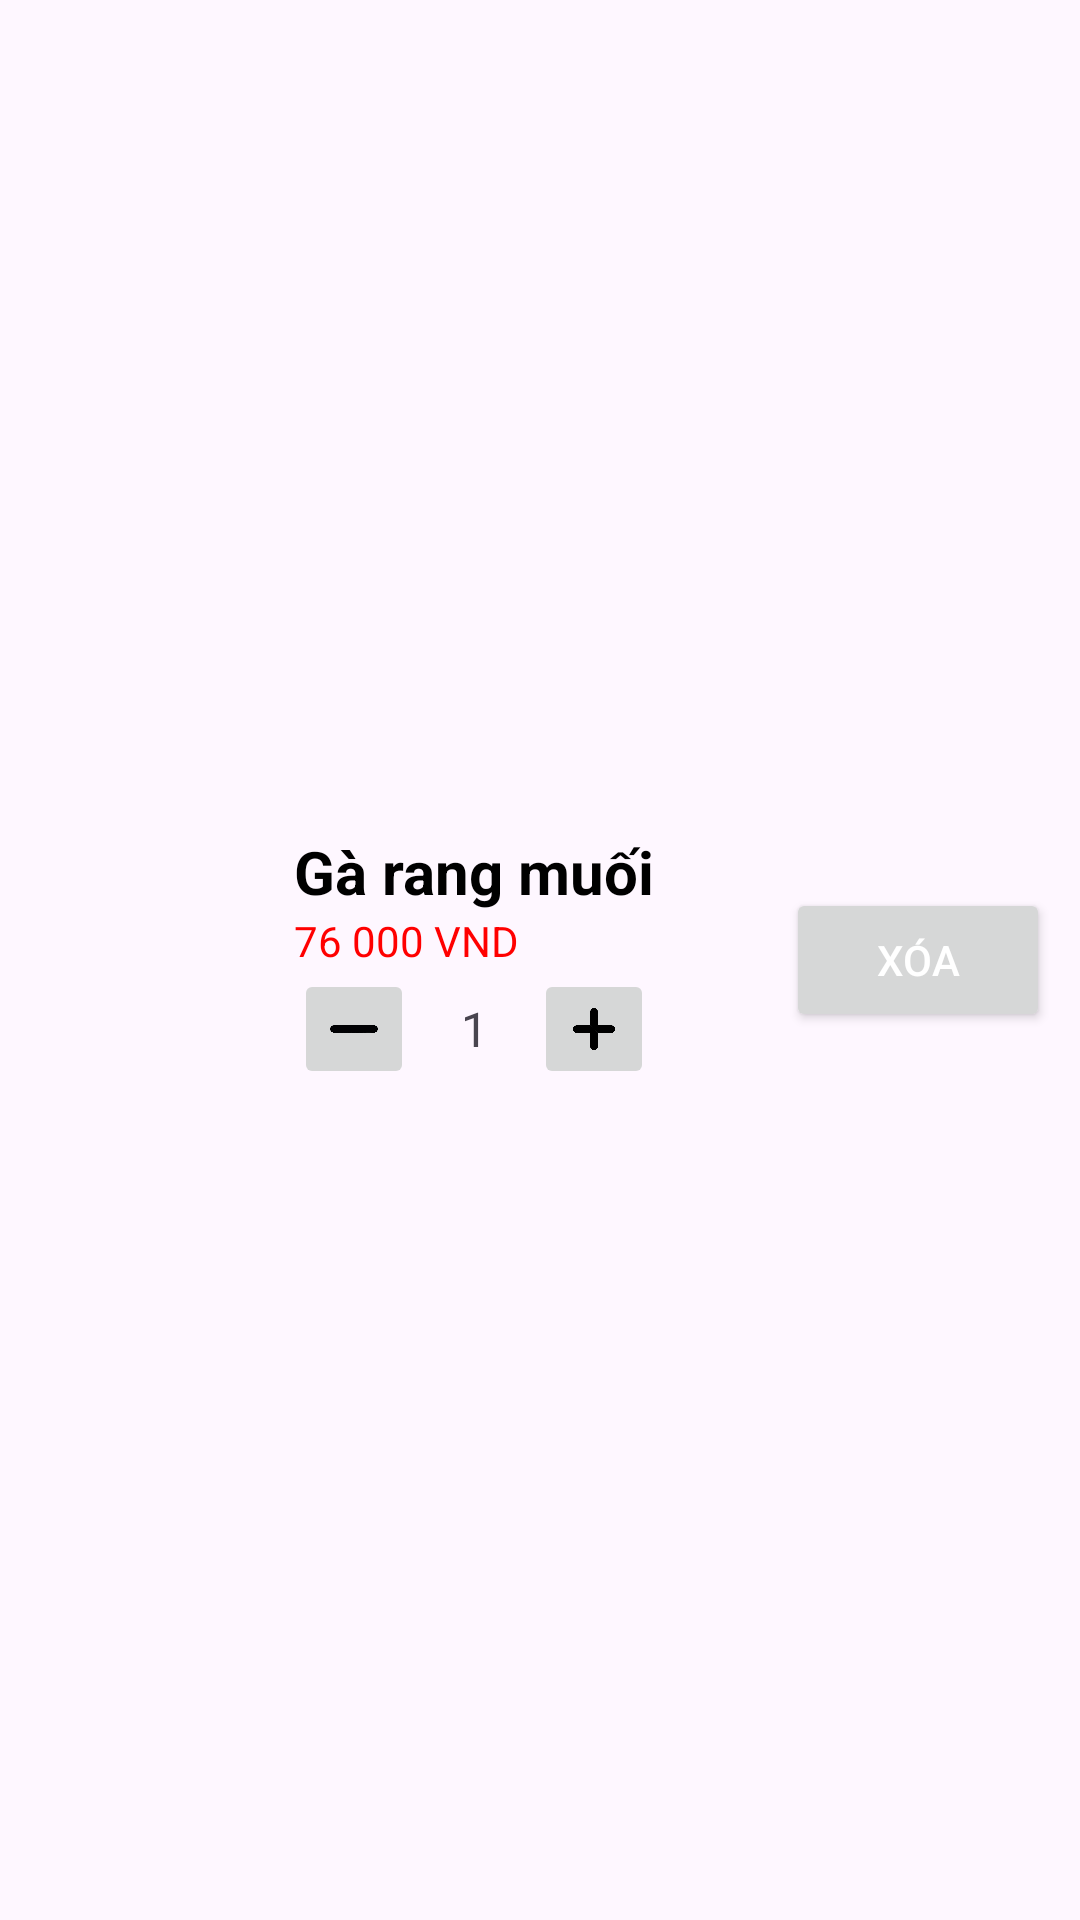

Named icons in this screenshot (1080×1920) and their centers, [x,y]:
add: [594,1029]
sub: [354,1029]
